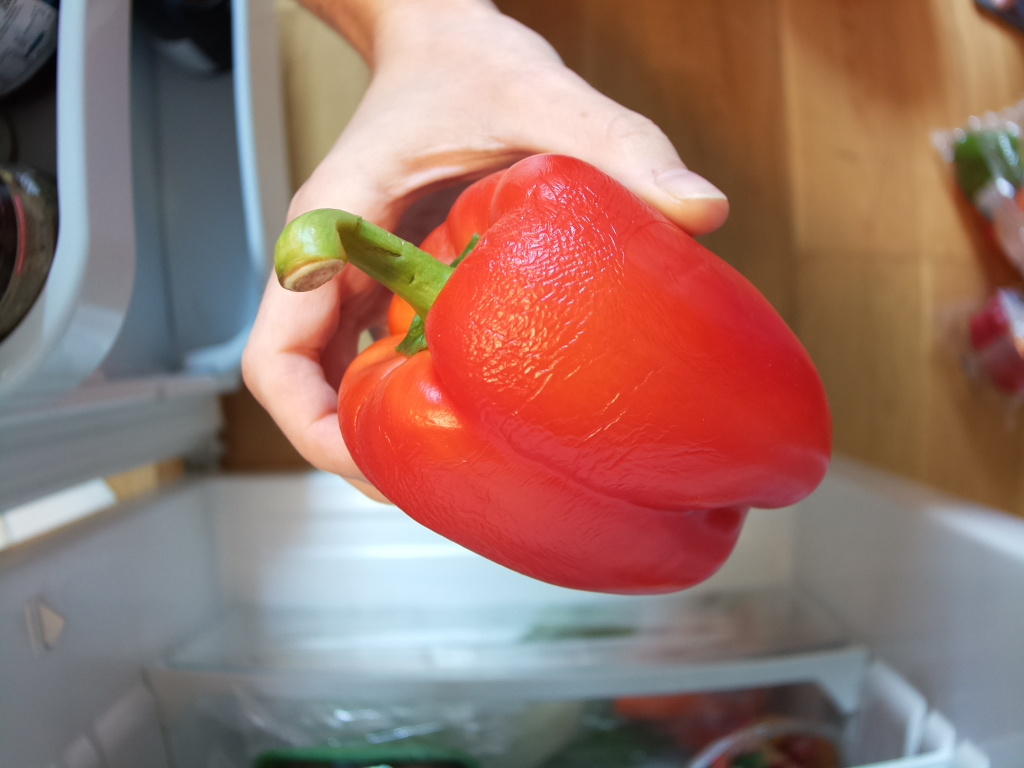pepper-bad: (269, 142, 836, 604)
